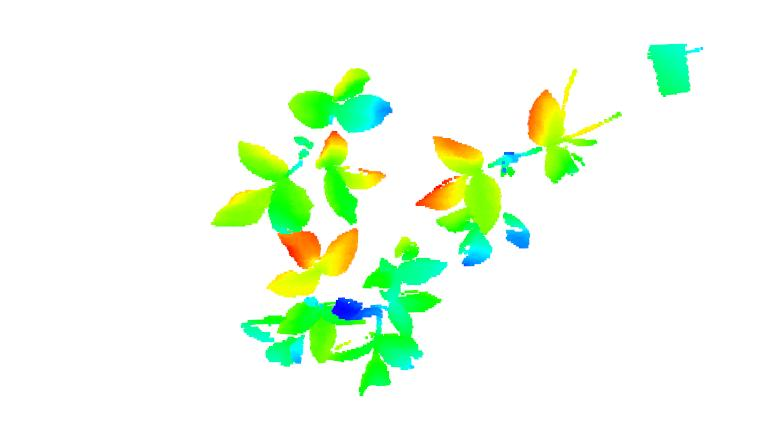mungbean: (411, 62, 625, 273), (204, 66, 394, 238), (243, 221, 372, 391), (351, 224, 445, 399)
